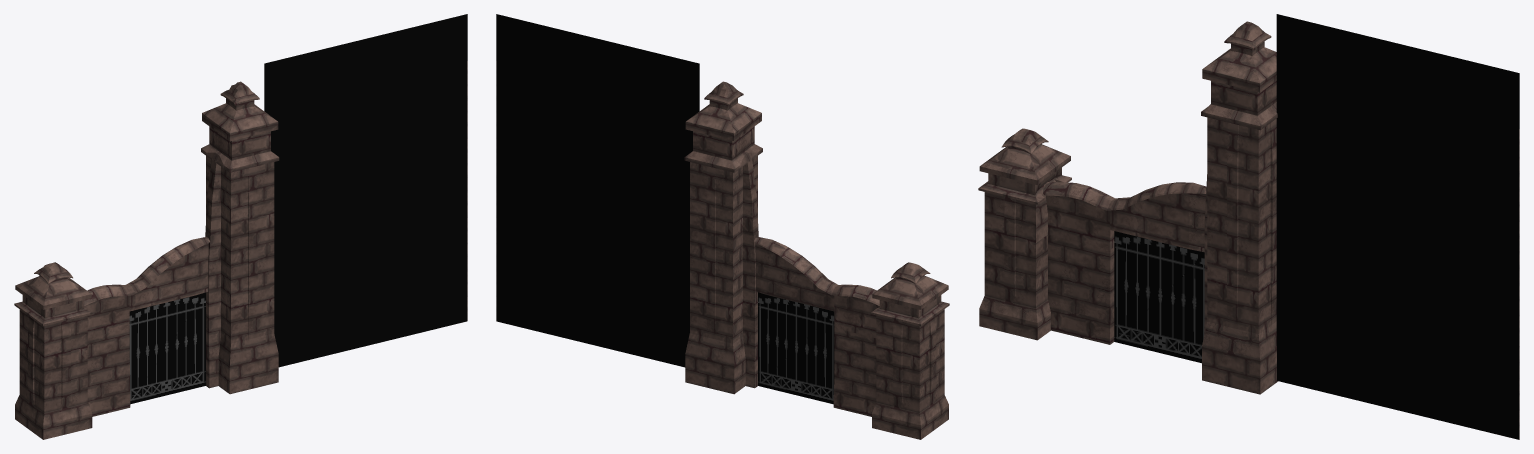
File: PortãoFerro.fbx
3 views of the same model, side by side, from view 1: azimuth 30°, elevation 25°; view 2: azimuth 150°, elevation 25°; view 3: azimuth 330°, elevation 25° (orthographic). The views are drawn at different scales.
Parts seen in each view (by area): view 1: GateGrid, GateStructure; view 2: GateGrid, GateStructure; view 3: GateGrid, GateStructure.
Part boxes in pixels (x1=…): GateGrid: x1=129, y1=14, x2=467, y2=404; GateStructure: x1=14, y1=81, x2=279, y2=439; GateGrid: x1=496, y1=14, x2=834, y2=404; GateStructure: x1=684, y1=81, x2=949, y2=439; GateGrid: x1=1114, y1=14, x2=1519, y2=439; GateStructure: x1=978, y1=21, x2=1278, y2=394.
Bounding box in the file's own units: 1497 × 1006 × 170.
